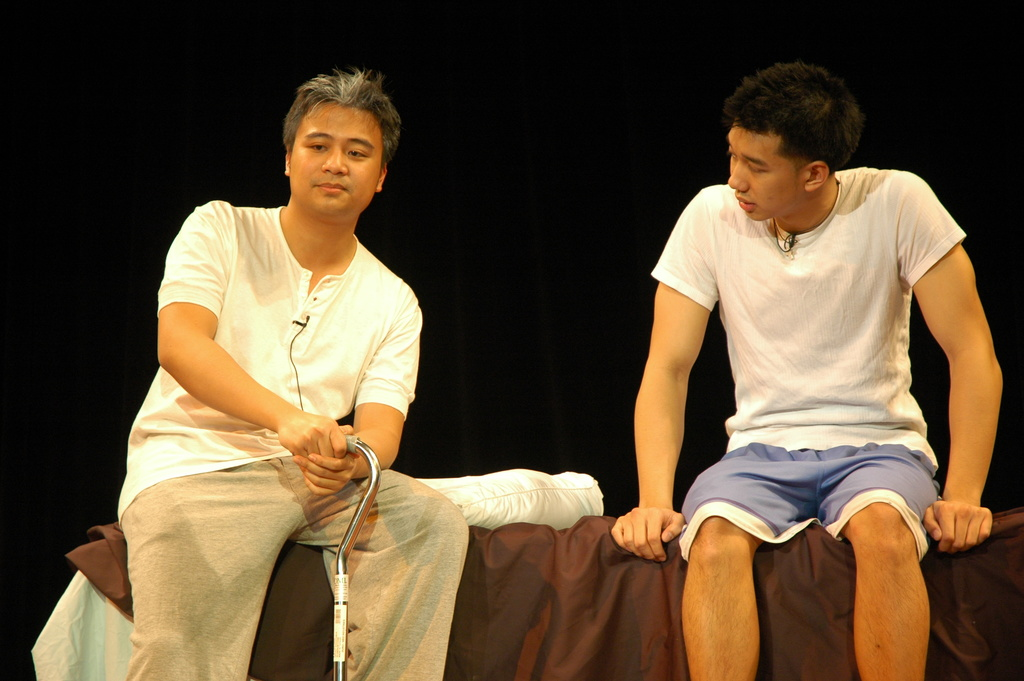Human_hand: (609, 505, 687, 563), (274, 408, 356, 459), (924, 498, 995, 554), (291, 455, 358, 498)
